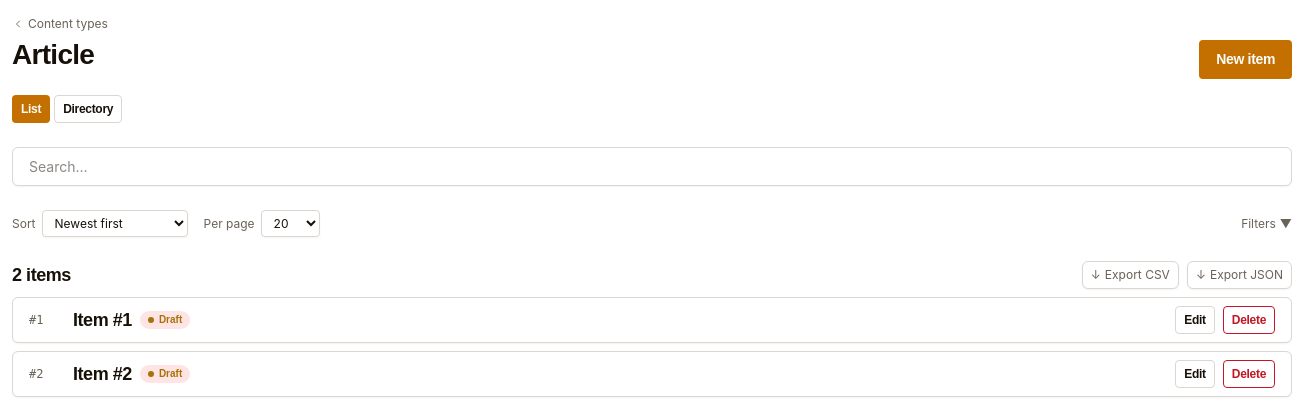
Scenario: EntityRecordsPage › filters records by the search query
The width and height of the screenshot is (1304, 414).
Expected: the text "Item #1" is shown, [73,310,132,329]
Expected: the text "Item #2" is shown, [73,364,132,383]
Type "alpha" into the search field labelled "Search…". click: (652, 166)
box: [12,147,1292,186]
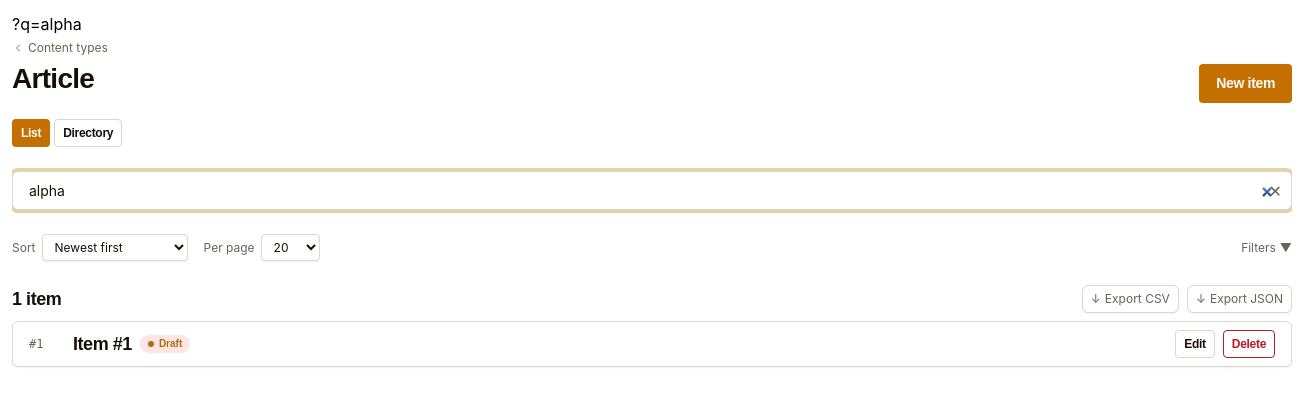
Expected: the text "Item #1" is shown, [73,334,132,353]
Expected: the text "Item #2" is gone
Click the button named "Clear search". click: (1275, 190)
box: [1267,176,1284,204]
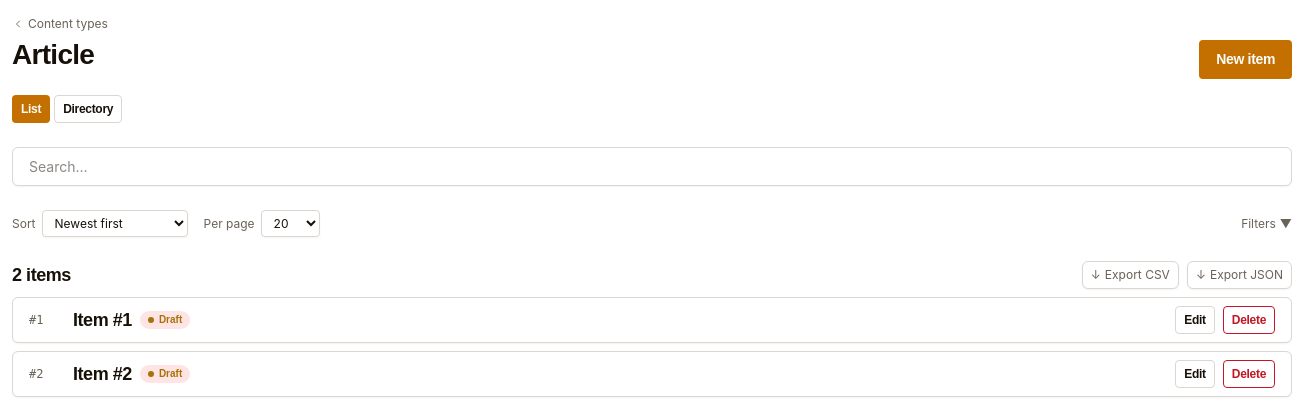
Expected: the text "Item #1" is shown, [73,310,132,329]
Expected: the text "Item #2" is shown, [73,364,132,383]
